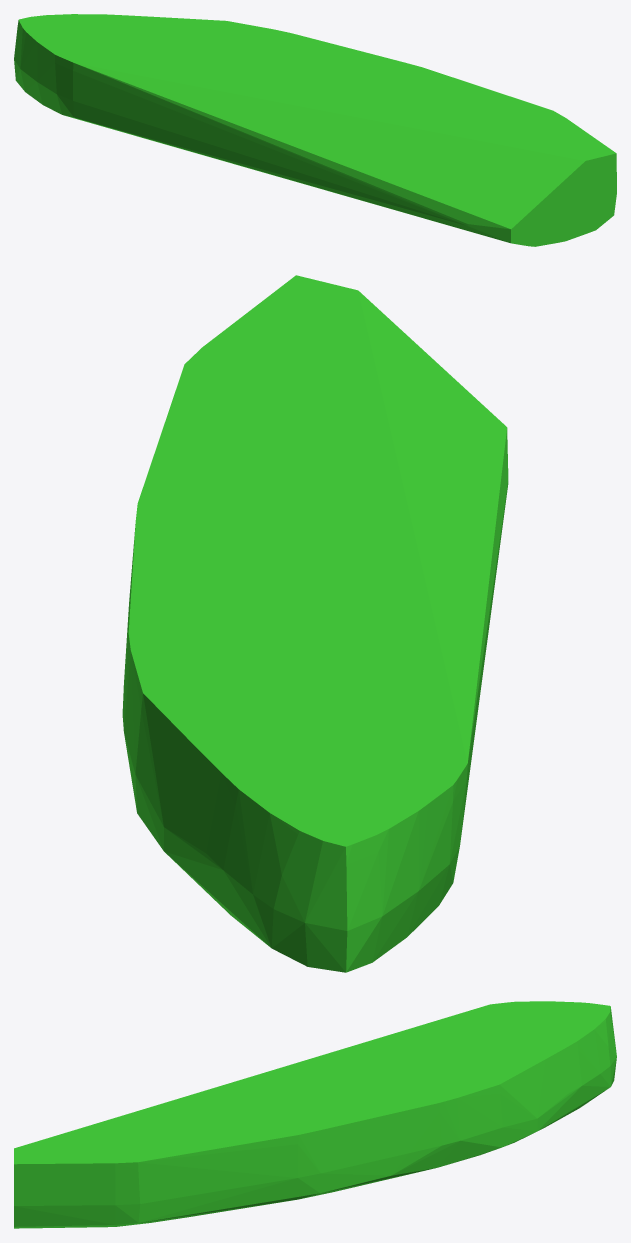
File: right-shoulder-pitch-0_part_150.obj
3 renders of one model, top to bottom at view 1: azimuth 30°, elevation 25°; view 2: azimuth 150°, elevation 25°; view 3: azimuth 270°, elevation 25°, orthographic. The views are drawn at different scales.
Bounding box in the file's own units: 0.0221 × 0.00502 × 0.0346.
